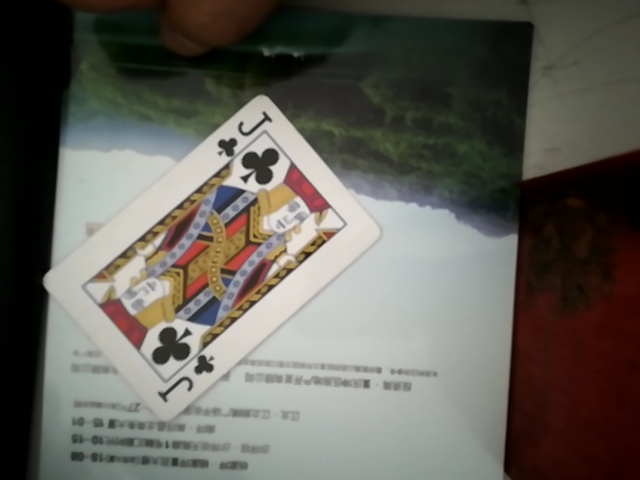mh j: (52, 88, 376, 408)
